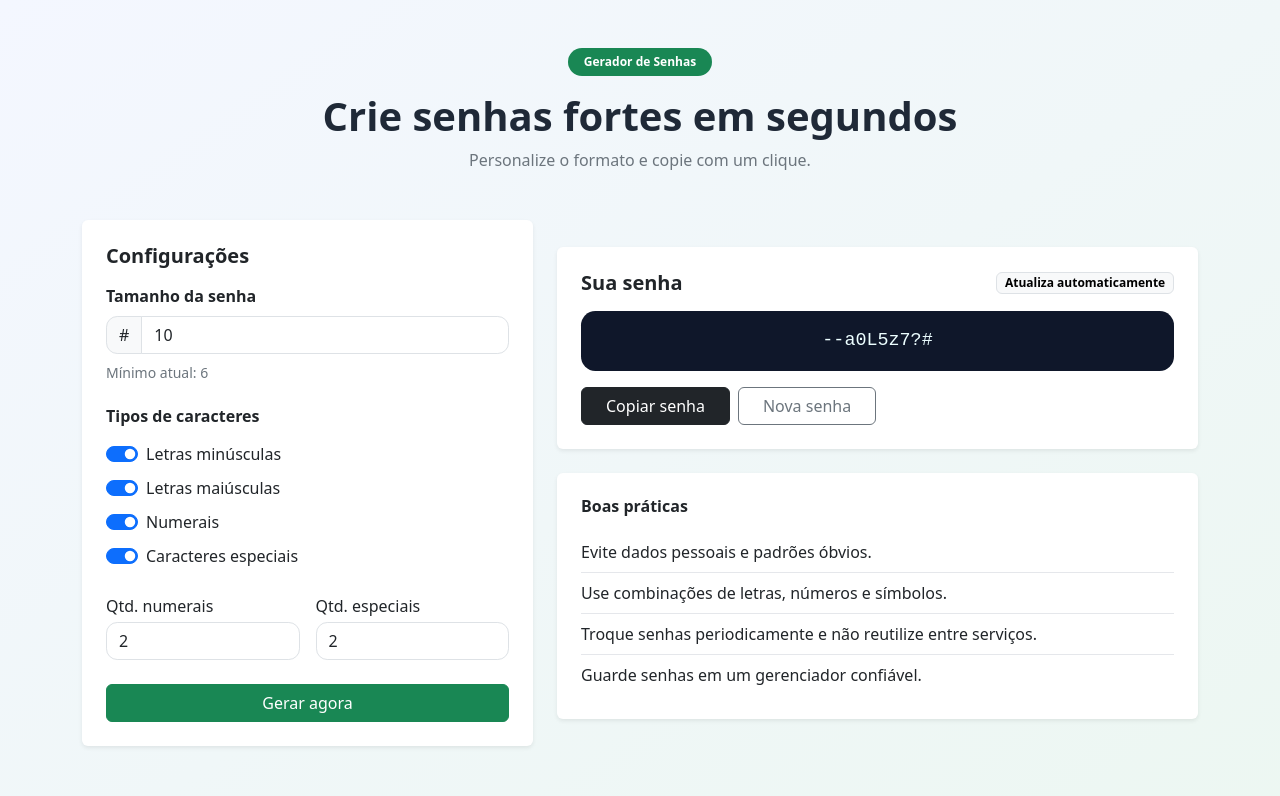
Password generator › respects minimum numbers and special characters
In the number field with test id "password-length": (325, 335) [141,316,509,354], type "14"
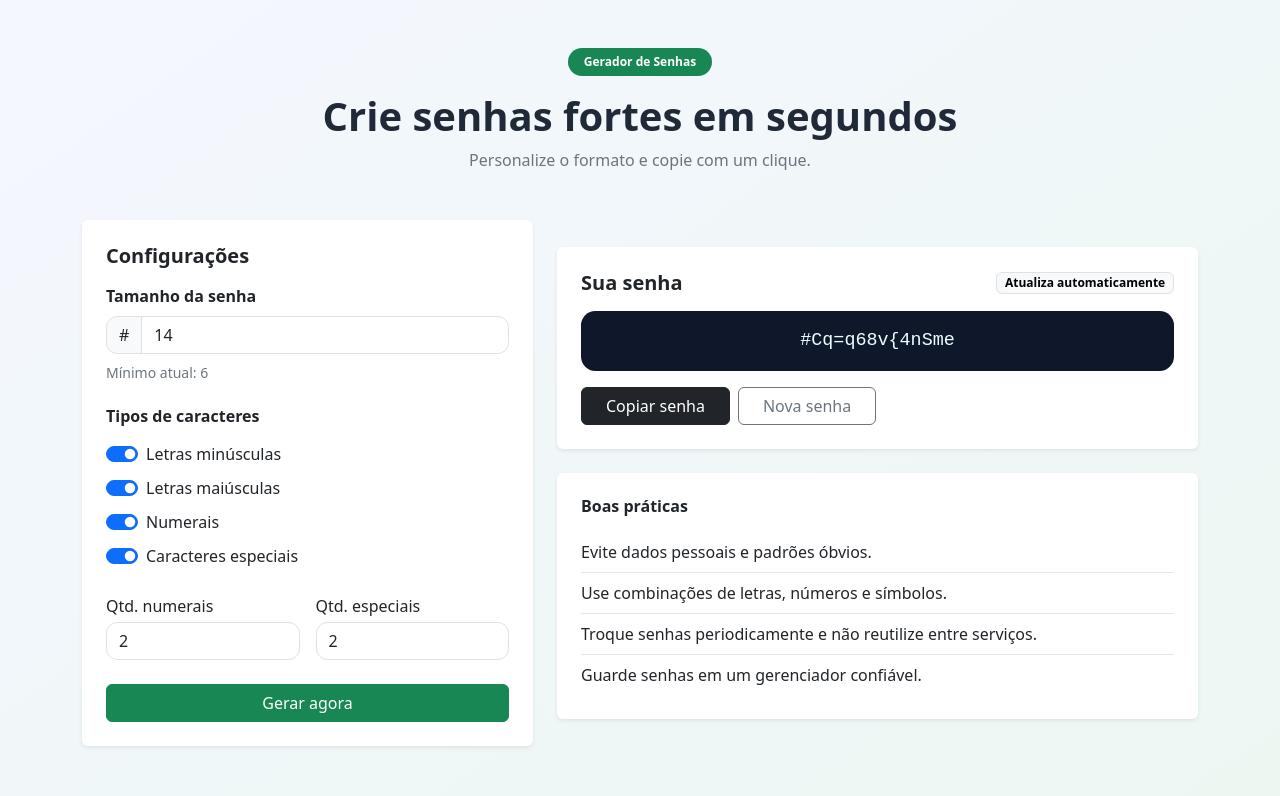
In the number field with test id "numbers-count": (203, 641) [106,622,300,660], type "4"
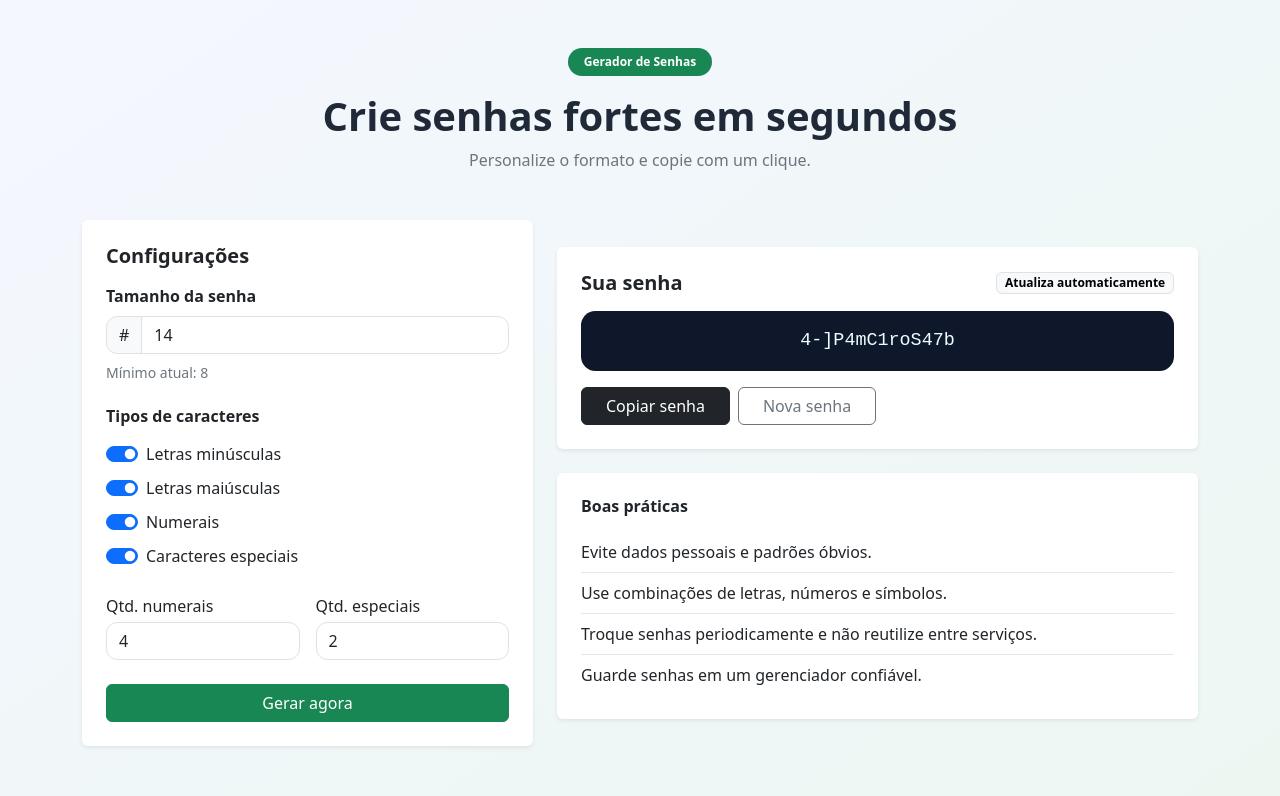
In the number field with test id "specials-count": (413, 641) [316,622,510,660], type "3"
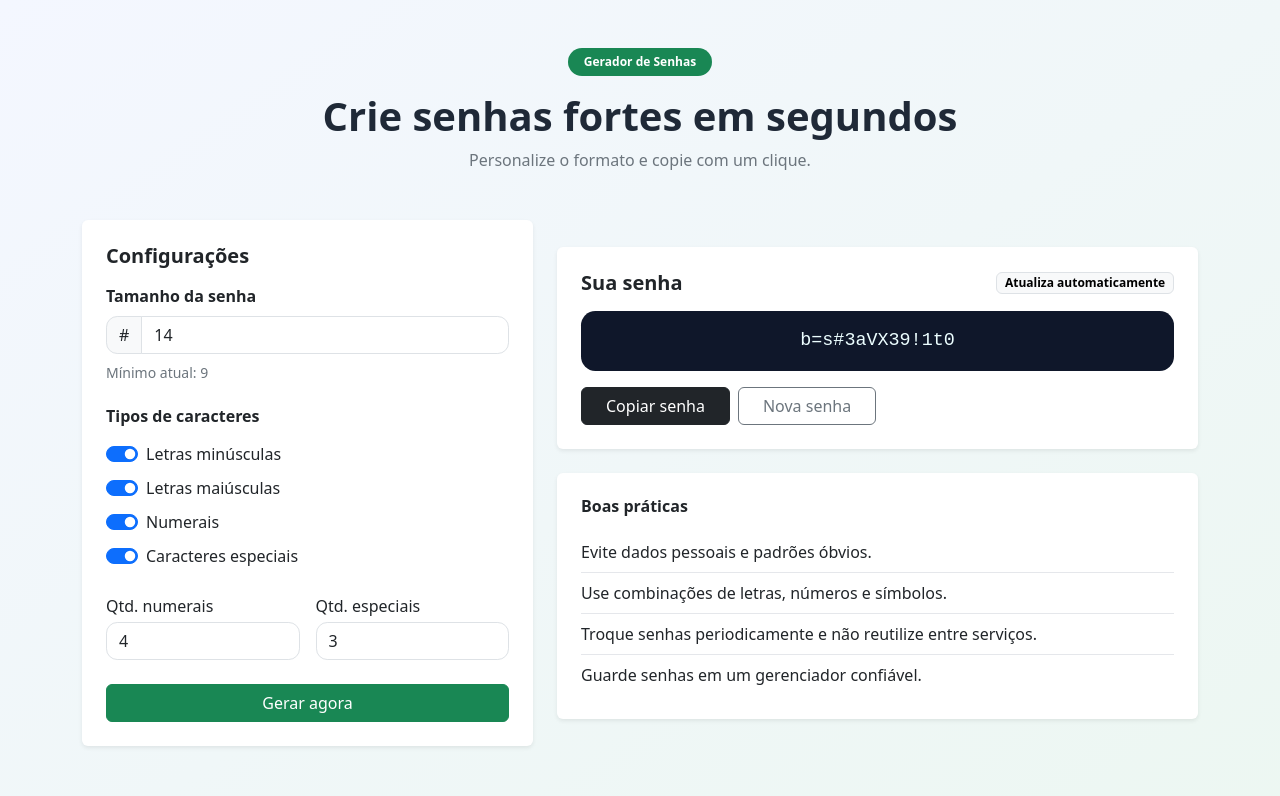
Expected: the text with test id "password-value" shows at least "4", [788,327,967,355]
Expected: the text with test id "password-value" shows at least "3", [788,327,967,355]
